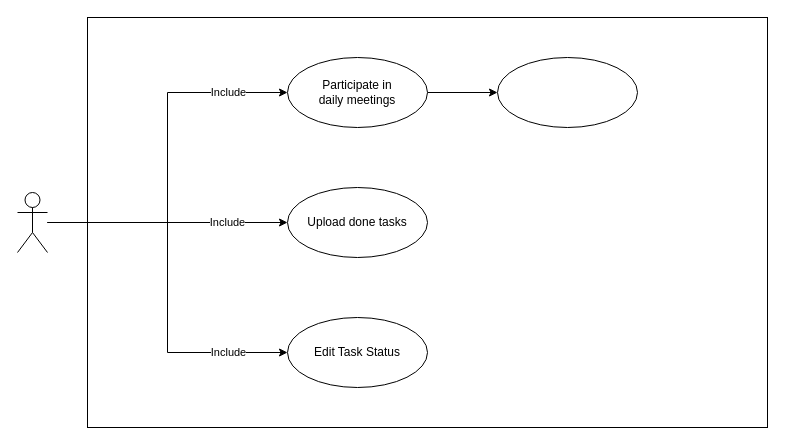
The diagram is 785 pixels wide and 445 high, and some of its shapes have lost their labels. The centre of each missing label's shape, as x and y in pixels:
Answer to Daily Questions: (567,92)
User: (32,222)
